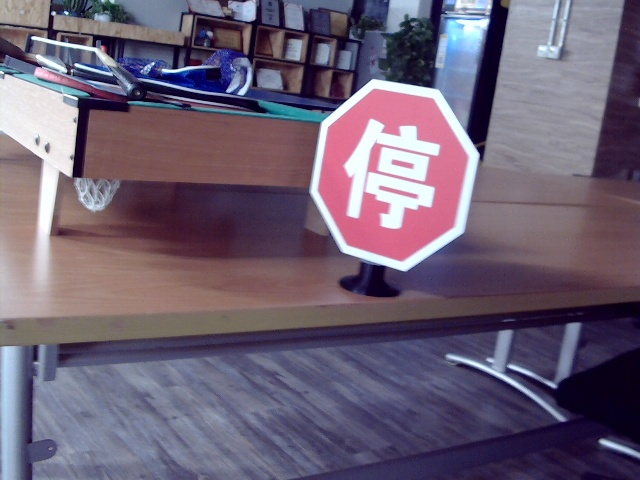stop: (339, 114, 433, 226)
